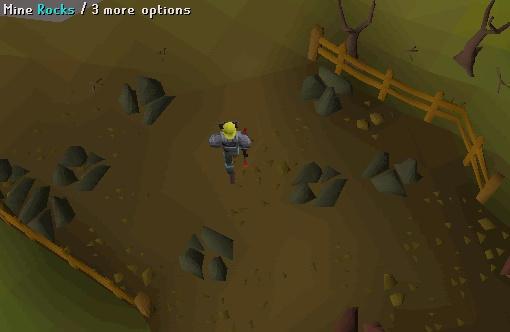coal: (284, 157, 352, 217), (173, 221, 241, 281), (113, 69, 181, 129), (48, 141, 116, 201), (290, 61, 358, 121)
